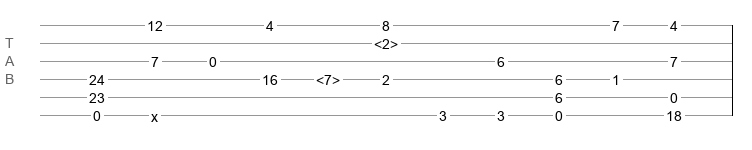0: (93, 108, 101, 118), (209, 54, 217, 64), (555, 108, 563, 118), (670, 90, 678, 100)
1: (612, 72, 620, 82)
12: (147, 18, 163, 28)
16: (262, 72, 278, 82)
18: (666, 108, 682, 118)
2: (382, 72, 390, 82)
23: (89, 90, 105, 100)
24: (89, 72, 105, 82)
3: (439, 108, 447, 118), (497, 108, 505, 118)
4: (266, 18, 274, 28), (670, 18, 678, 28)
6: (497, 54, 505, 64), (555, 90, 563, 100), (555, 72, 563, 82)
7: (151, 54, 159, 64), (612, 18, 620, 28), (670, 54, 678, 64)
8: (382, 18, 390, 28)
harmonic: (316, 72, 340, 82), (374, 36, 398, 46)
x: (151, 109, 158, 117)
